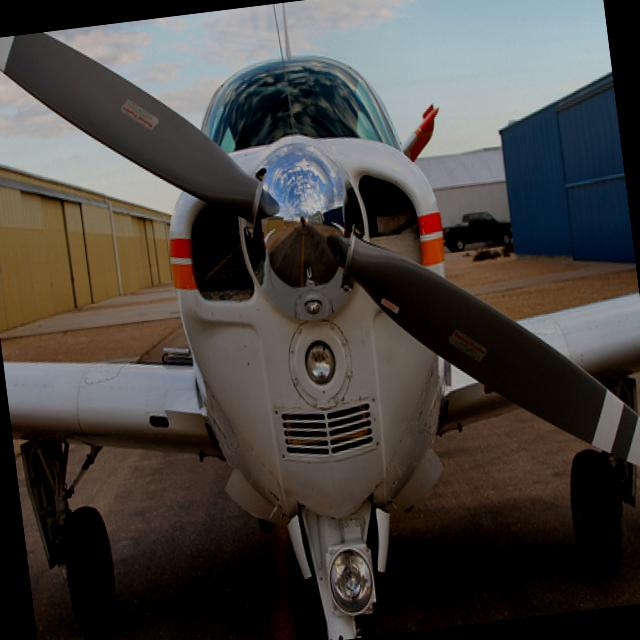Vehicle: (441, 208, 513, 254)
